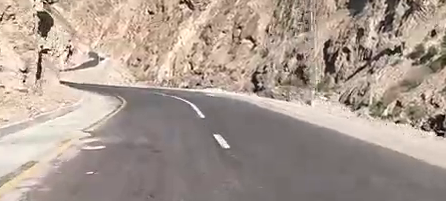right: (73, 77, 304, 149)
